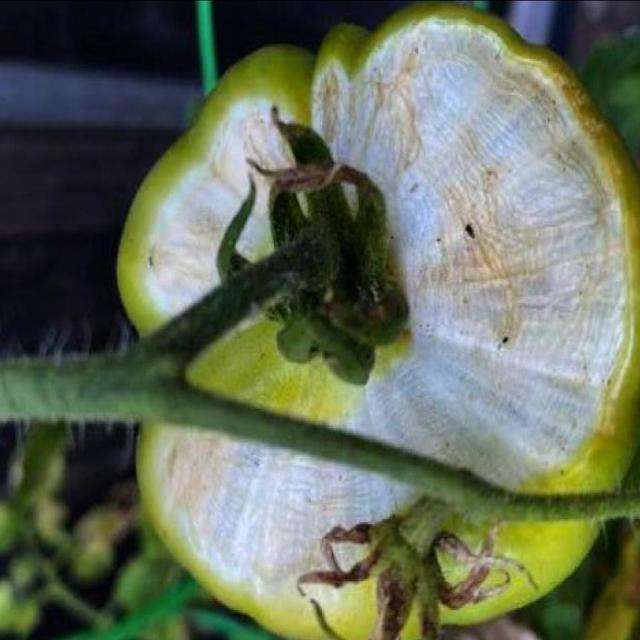Sunscald Fruit: (90, 12, 424, 402)
